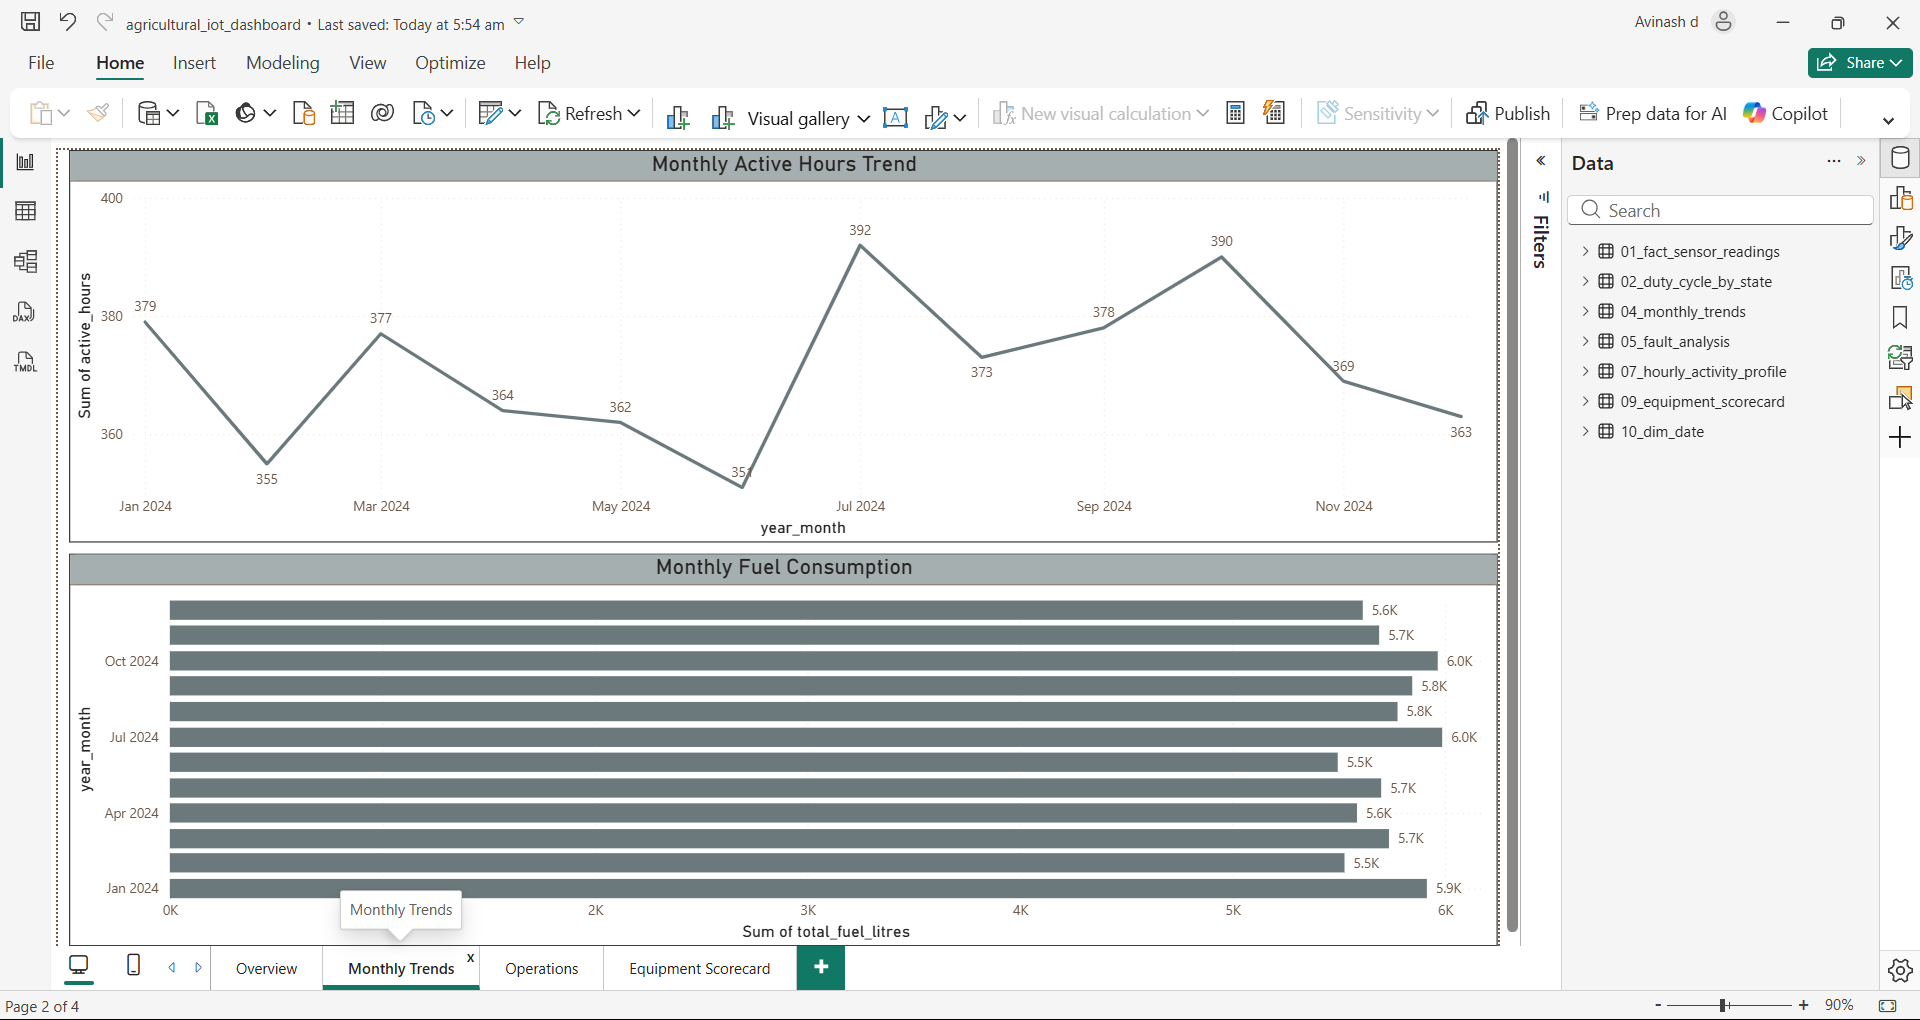

This screenshot's page, from the dashboard's own definition file:
{"tool":"powerbi","page":{"name":"Monthly Trends","canvas":[1280,720],"ordinal":1},"visuals":[{"type":"lineChart","title":"Monthly Active Hours Trend","fields":{"Category":["04_monthly_trends.year_month"],"Y":["Sum(04_monthly_trends.active_hours)"]},"box":[10.3,0,1269.7,349],"z":0},{"type":"clusteredBarChart","title":"Monthly Fuel Consumption","fields":{"Category":["04_monthly_trends.year_month"],"Y":["Sum(04_monthly_trends.total_fuel_litres)"]},"box":[10.3,359.3,1269.7,349],"z":1000}]}

Visuals, with their boxes on the page's 1280x720 design canvas (x1, y1, x2, y2). These are canvas units, not pixel positions in the 1920x1020 screenshot, which may show the page scaled, cropped or inside an application window:
"Monthly Active Hours Trend" lineChart: detection(10, 0, 1280, 349)
"Monthly Fuel Consumption" clusteredBarChart: detection(10, 359, 1280, 708)
